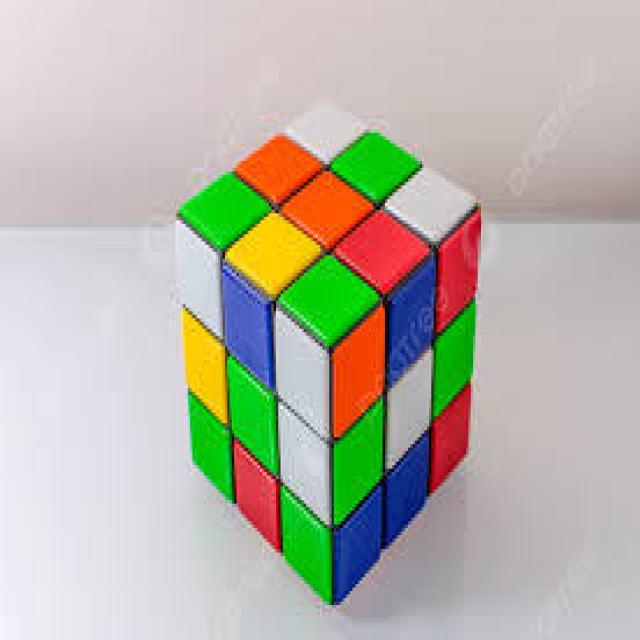Cubo-No-resuelto: (176, 105, 480, 598)
